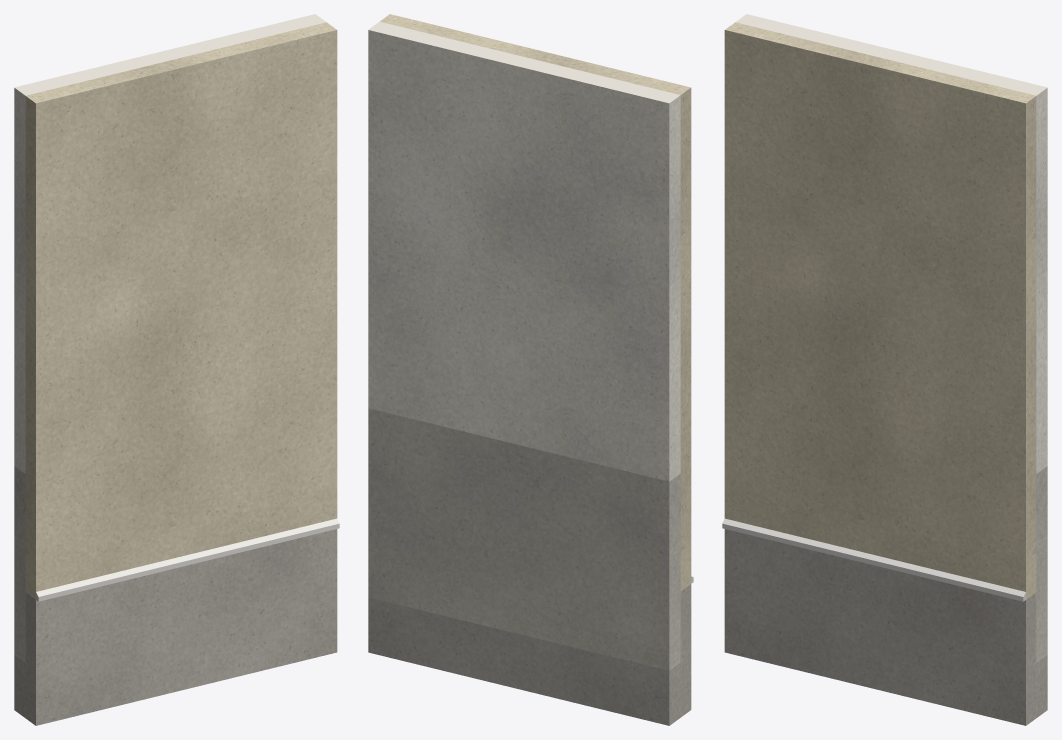
The model's file is o_plain.glb.
The picture shows the model from 3 angles, left to right: view 1: azimuth 30°, elevation 25°; view 2: azimuth 150°, elevation 25°; view 3: azimuth 330°, elevation 25°; orthographic projection.
Visible parts, largest first — view 1: o_plain_render, o_plain_concrete, o_plain_plaster, o_plain_coping, o_plain_tile_a; view 2: o_plain_plaster, o_plain_tile_a, o_plain_concrete, o_plain_render; view 3: o_plain_render, o_plain_concrete, o_plain_plaster, o_plain_coping, o_plain_tile_a.
Boxes of the visible parts, box(x1,y1,x2,y2) form: o_plain_render: box(25, 22, 337, 599); o_plain_concrete: box(14, 529, 337, 725); o_plain_plaster: box(14, 14, 326, 473); o_plain_coping: box(36, 518, 339, 601); o_plain_tile_a: box(14, 466, 25, 662); o_plain_plaster: box(368, 21, 680, 481); o_plain_tile_a: box(368, 408, 680, 670); o_plain_concrete: box(368, 584, 691, 725); o_plain_render: box(380, 14, 691, 591); o_plain_render: box(724, 22, 1036, 599); o_plain_concrete: box(724, 529, 1047, 725); o_plain_plaster: box(735, 14, 1047, 473); o_plain_coping: box(722, 518, 1025, 601); o_plain_tile_a: box(1036, 466, 1047, 662).
Bounding box in the file's own units: 2 × 3.95 × 0.28.
5 materials, 4 textured.
